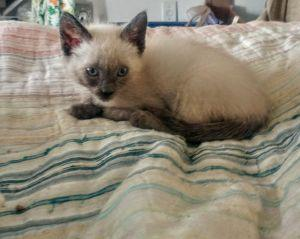siamese: (57, 5, 155, 113)
